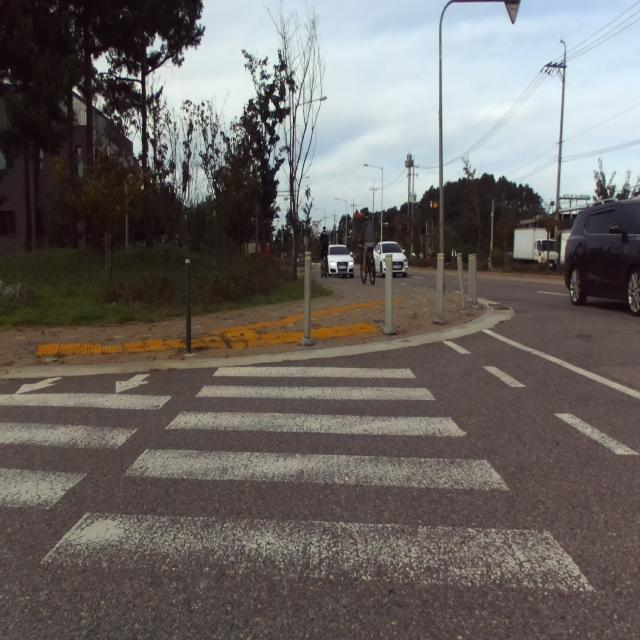횡단보도: (0, 367, 597, 592)
